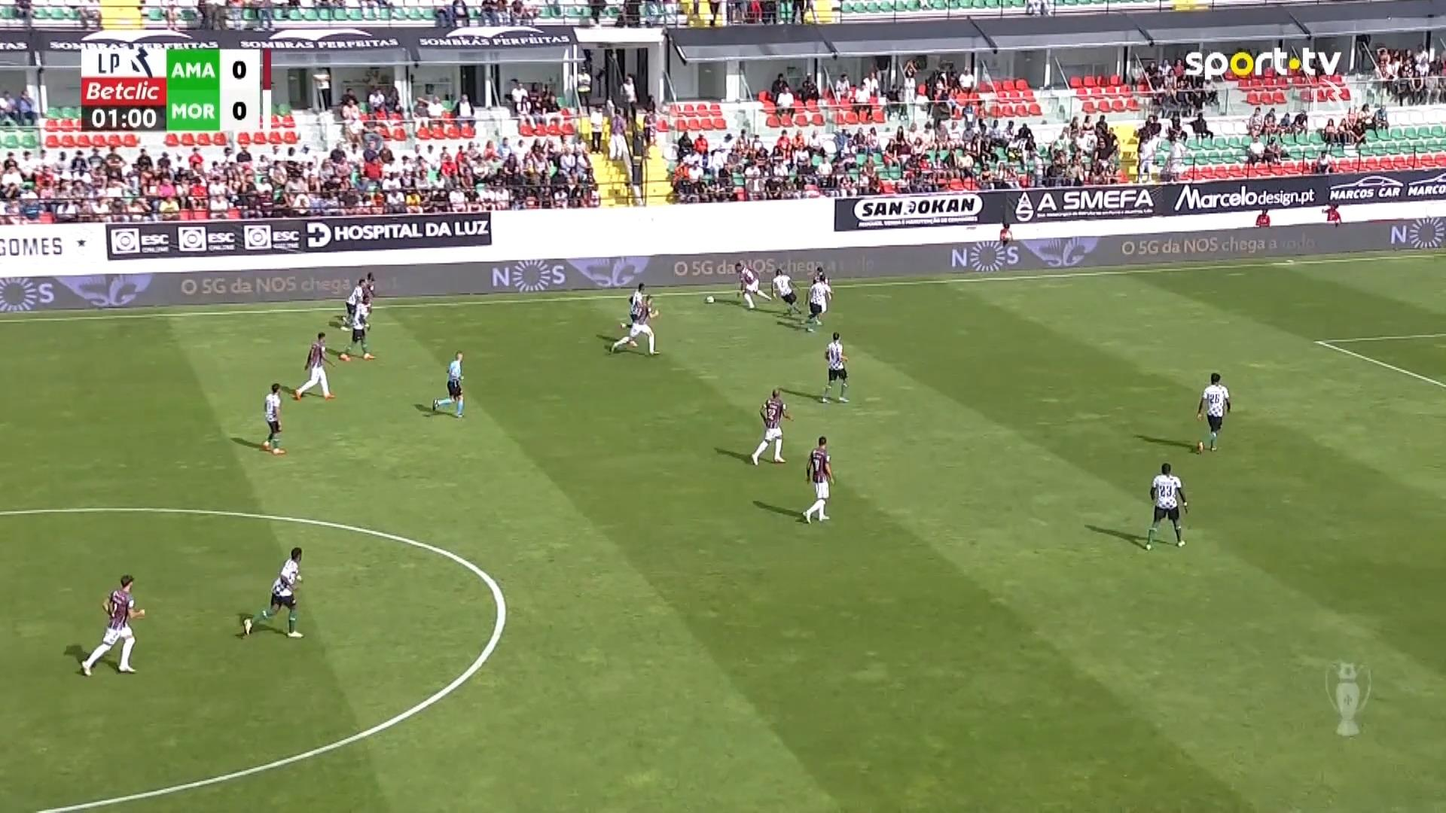ball: (705, 295, 714, 303)
player: (79, 574, 145, 676), (240, 546, 304, 638), (1144, 461, 1188, 550), (750, 387, 793, 465), (289, 331, 336, 400), (801, 435, 835, 524), (611, 296, 660, 357), (1195, 371, 1231, 452), (338, 298, 376, 361), (819, 330, 850, 403), (734, 261, 773, 309), (260, 382, 285, 455), (804, 274, 833, 328), (621, 283, 645, 347), (771, 266, 801, 315), (340, 277, 366, 330)
referee: (445, 350, 465, 418)
